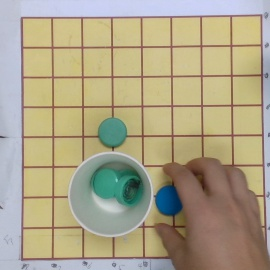blue: (156, 186, 185, 215)
cup_green: (67, 152, 157, 237)
green: (97, 117, 128, 147)
